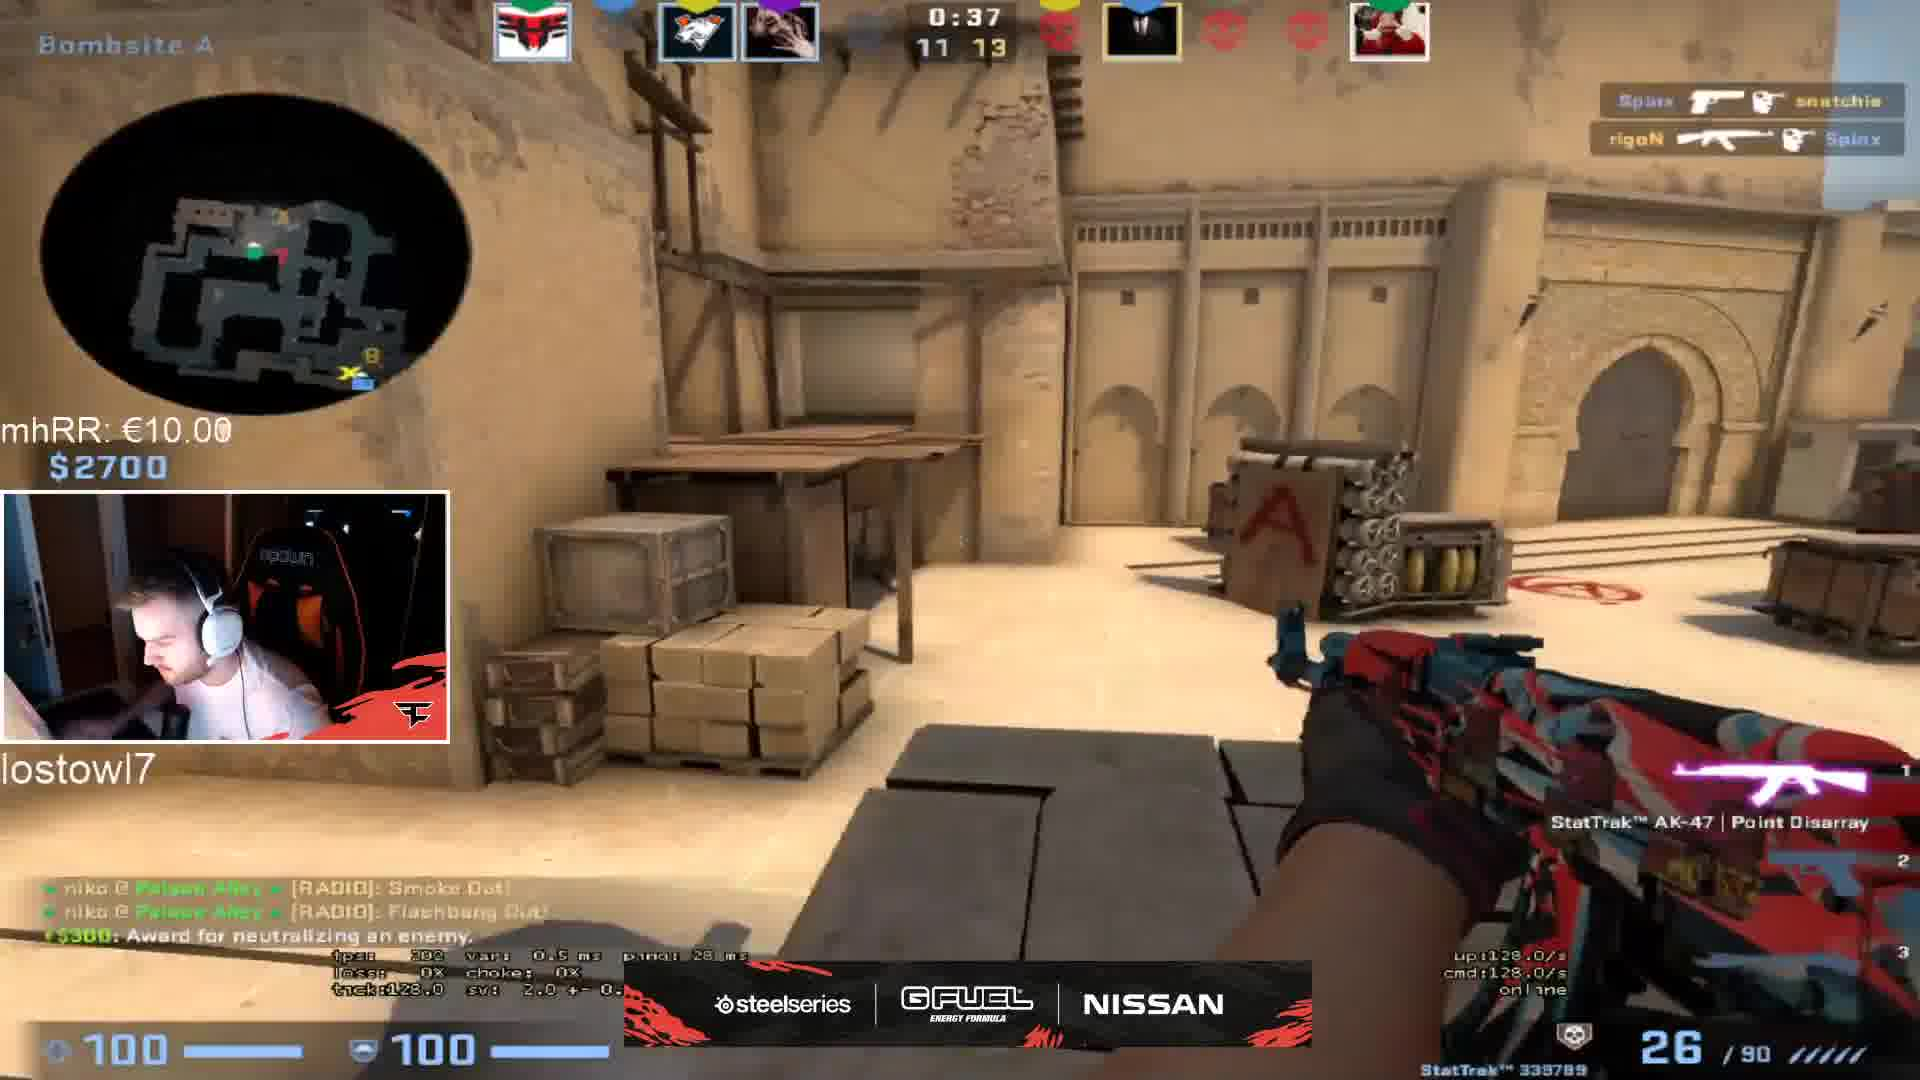enemy: (849, 542, 898, 599)
